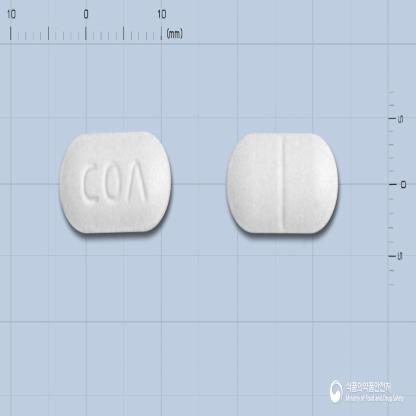pill: (224, 128, 340, 236), (58, 132, 174, 235)
